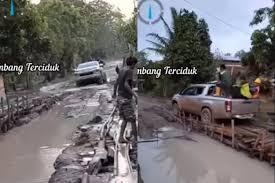Pothole: (130, 112, 270, 183)
